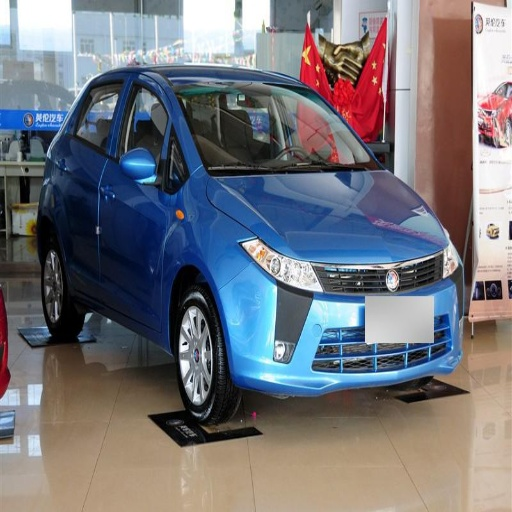front_bumper: (222, 250, 462, 396)
front_right_door: (99, 73, 179, 326)
front_right_light: (241, 239, 319, 293)
hood: (207, 172, 448, 265)
